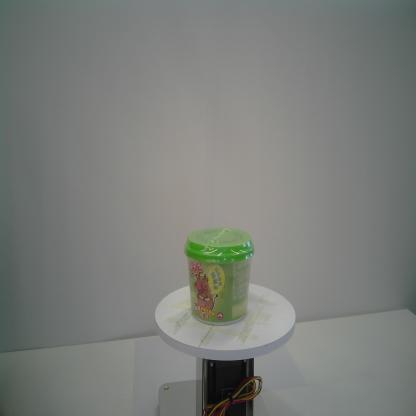Instant Drink: (183, 224, 255, 328)
